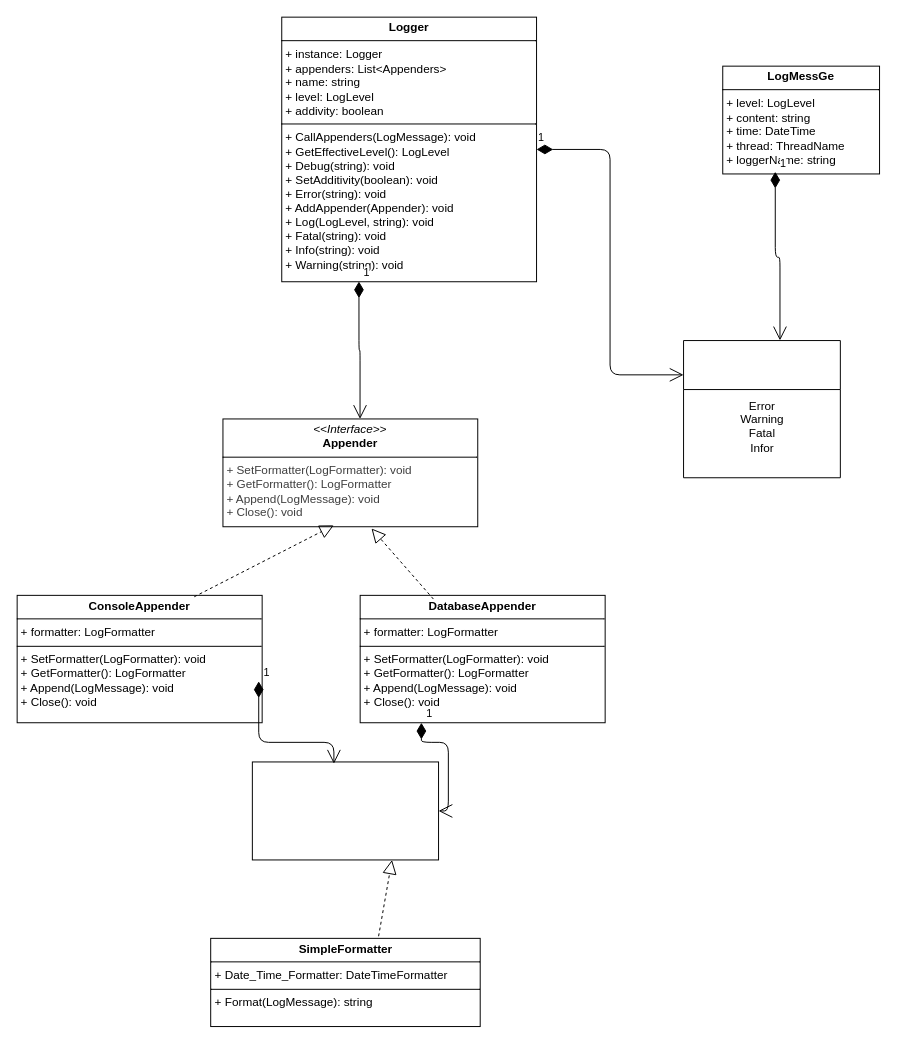
Image size: 897x1044. Some labels were removed from this diagram. The box of each missing label's shape, as (x1, y1, x2, y2) in pixels:
<<enumeration>> LogLevel: (683, 340, 840, 478)
<<Interface>> LogFormatter + Format(LogMessage): string: (251, 761, 439, 860)
